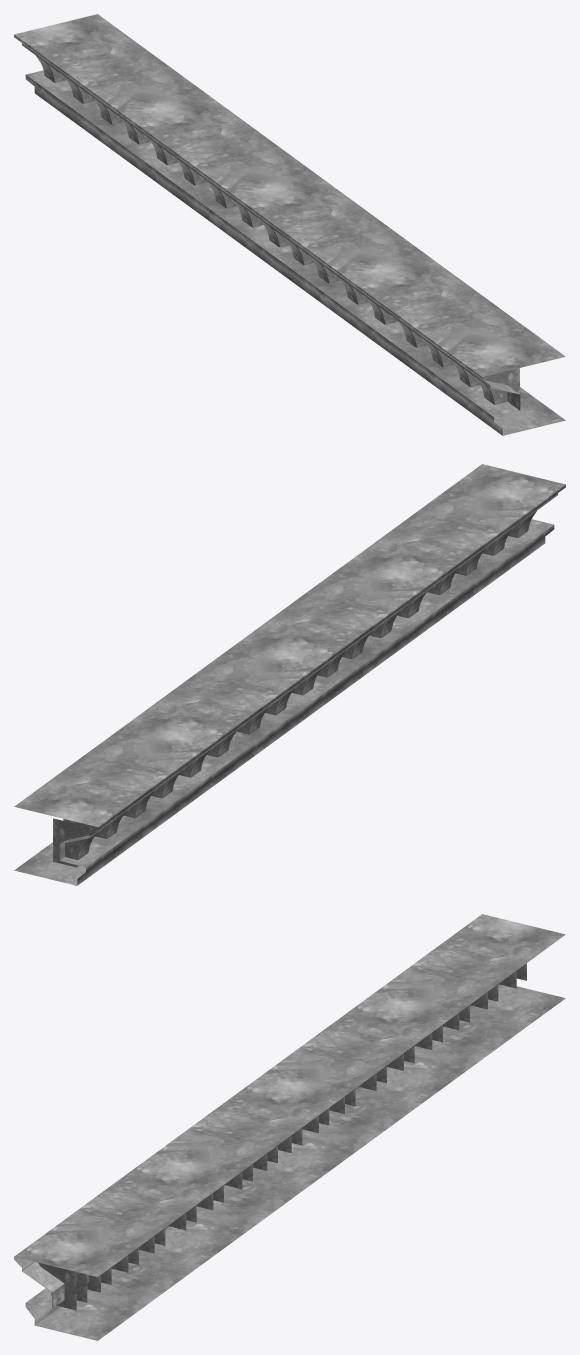
The model's file is SM_WallTrim_01g.fbx.
The picture shows the model from 3 angles, top to bottom: view 1: azimuth 30°, elevation 25°; view 2: azimuth 150°, elevation 25°; view 3: azimuth 330°, elevation 25°; orthographic projection.
Visible parts, largest first — view 1: SM_WallTrim_01g_LOD0; view 2: SM_WallTrim_01g_LOD0; view 3: SM_WallTrim_01g_LOD0.
Part boxes in pixels (left/top/right/bottom): SM_WallTrim_01g_LOD0: left=14, top=14, right=565, bottom=435; SM_WallTrim_01g_LOD0: left=14, top=464, right=565, bottom=885; SM_WallTrim_01g_LOD0: left=14, top=914, right=565, bottom=1340.
Bounding box in the file's own units: 72.33 × 700 × 52.59.
